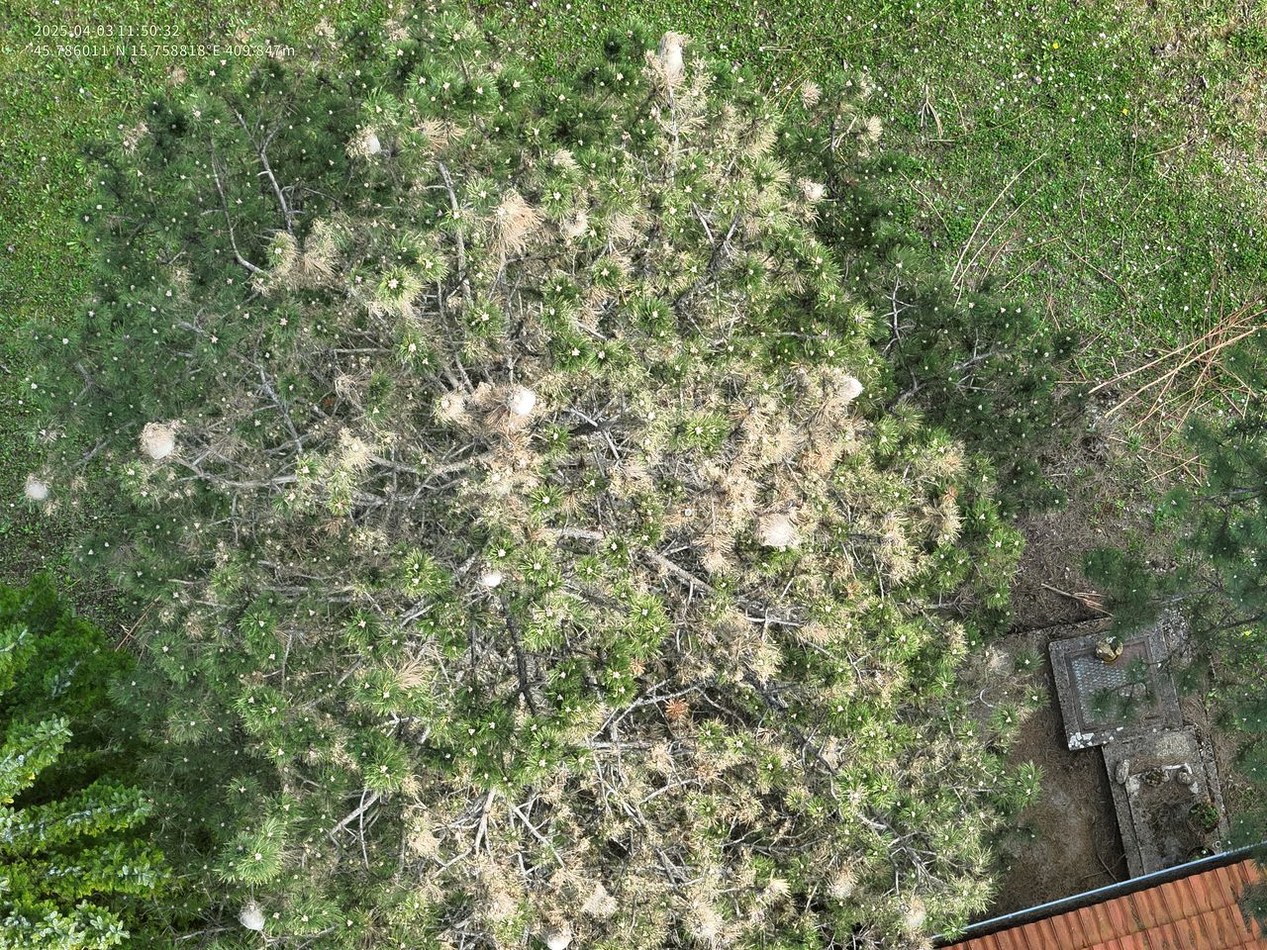thaumatopoea pityocampa jajno gnijezdo: (642, 26, 699, 92), (813, 371, 867, 408), (230, 893, 272, 939), (755, 508, 801, 549), (139, 419, 180, 461), (684, 895, 723, 939), (822, 863, 857, 909), (504, 379, 541, 422), (578, 880, 619, 918), (430, 391, 470, 428), (20, 468, 54, 507), (539, 921, 580, 950), (353, 124, 383, 161), (899, 899, 929, 933), (477, 564, 508, 594), (801, 181, 830, 204)
